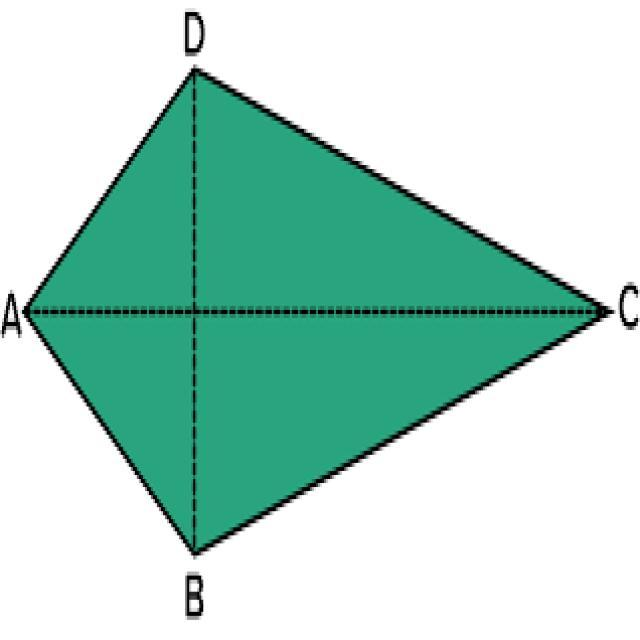Layang-Layang: (9, 11, 619, 561)
